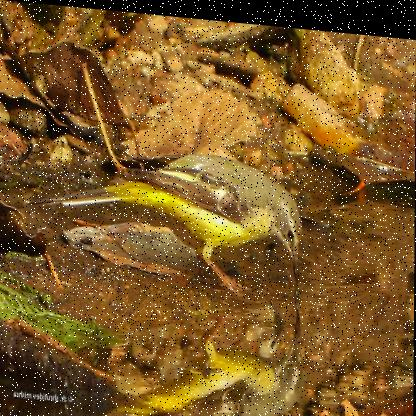Burung: (27, 132, 304, 295)
